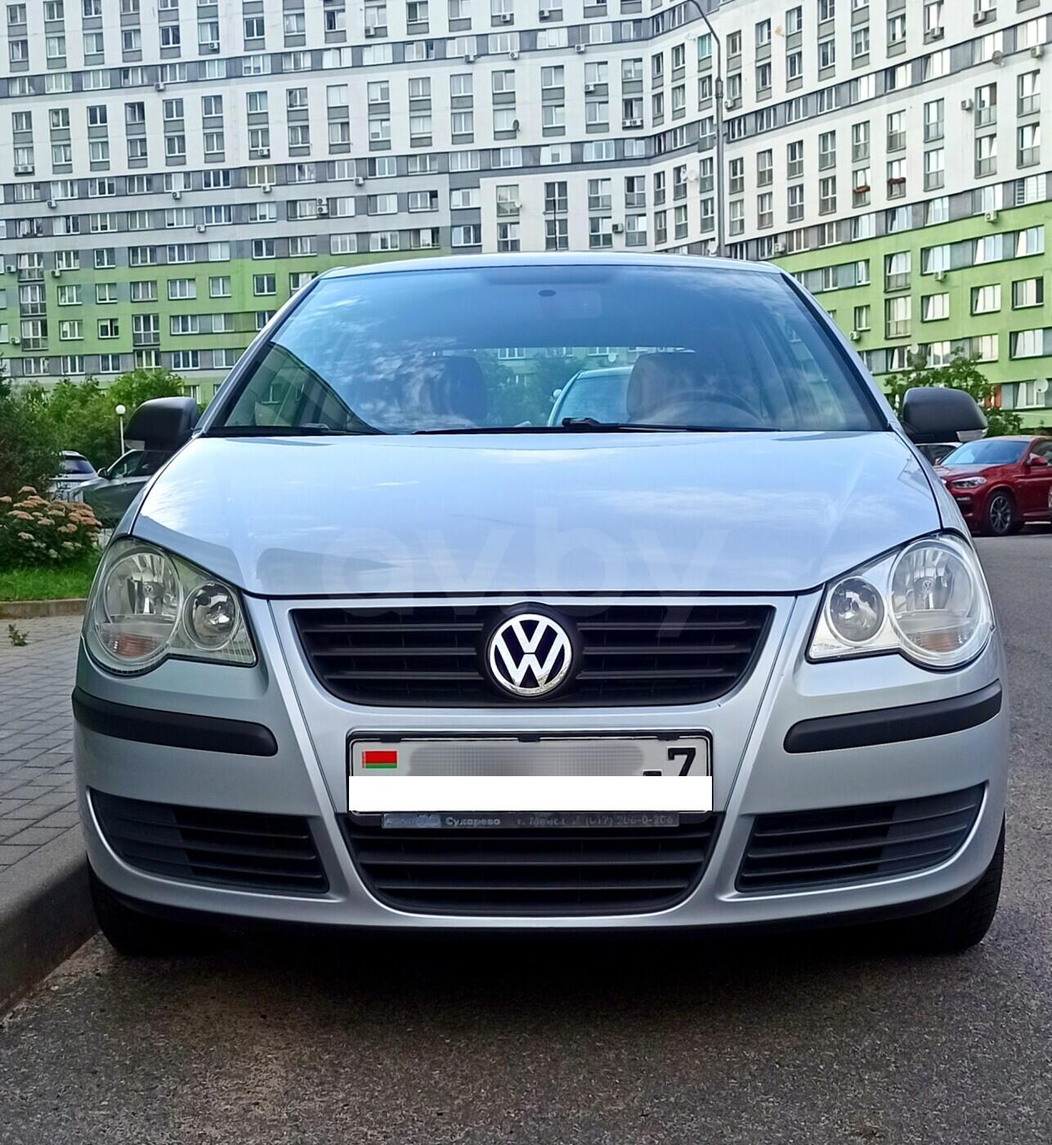Polo_2005-2009: (59, 238, 1021, 960)
